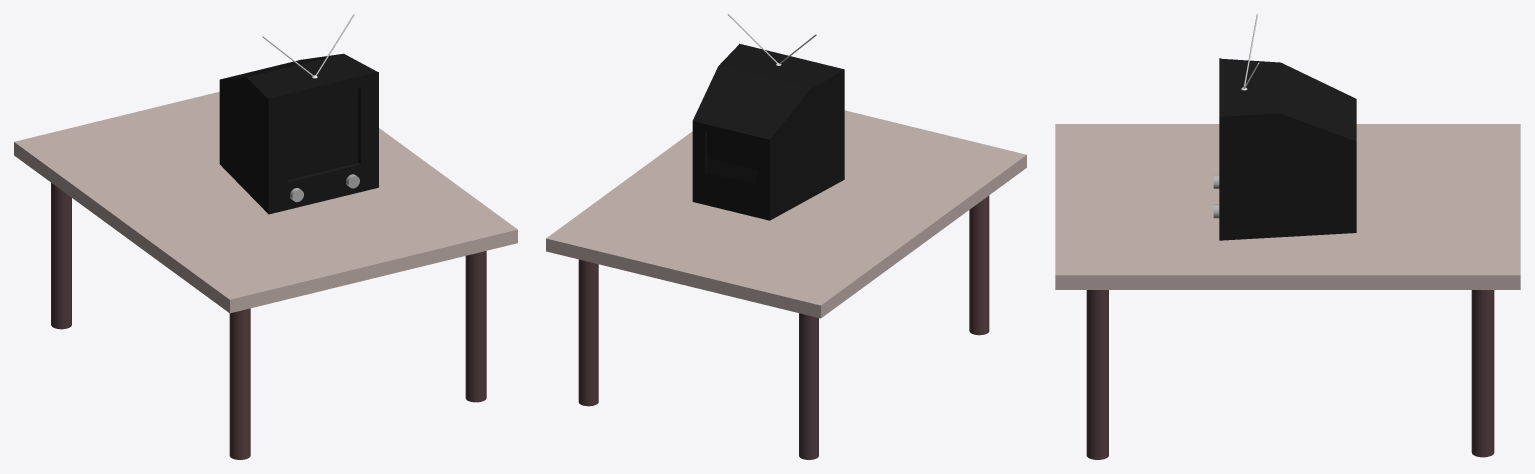
Rendered from Fernseher.fbx.
The picture shows the model from 3 angles, left to right: view 1: azimuth 30°, elevation 25°; view 2: azimuth 150°, elevation 25°; view 3: azimuth 270°, elevation 25°; orthographic projection. The views are drawn at different scales.
Visible parts, largest first — view 1: Plane, Cube, Cylinder, Cylinder.001, Cylinder.002; view 2: Plane, Cube, Cylinder.003, Cylinder.002, Cylinder.001; view 3: Plane, Cube, Cylinder.003, Cylinder.
Boxes of the visible parts, <box> form: Plane: <box>14,91,517,313</box>; Cube: <box>219,53,378,214</box>; Cylinder: <box>465,251,486,402</box>; Cylinder.001: <box>229,308,250,459</box>; Cylinder.002: <box>51,183,71,329</box>; Plane: <box>546,110,1026,318</box>; Cube: <box>692,43,844,220</box>; Cylinder.003: <box>578,259,598,406</box>; Cylinder.002: <box>799,313,818,459</box>; Cylinder.001: <box>969,195,989,335</box>; Plane: <box>1055,124,1520,289</box>; Cube: <box>1219,58,1356,240</box>; Cylinder.003: <box>1471,290,1494,457</box>; Cylinder: <box>1086,290,1108,459</box>.
Size of the model in its own units: 349 by 395 by 453.
